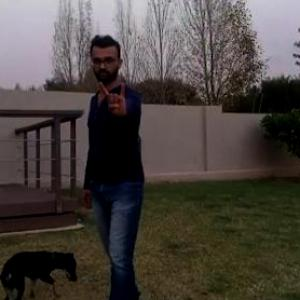takeoff-hand: (98, 70, 132, 121)
